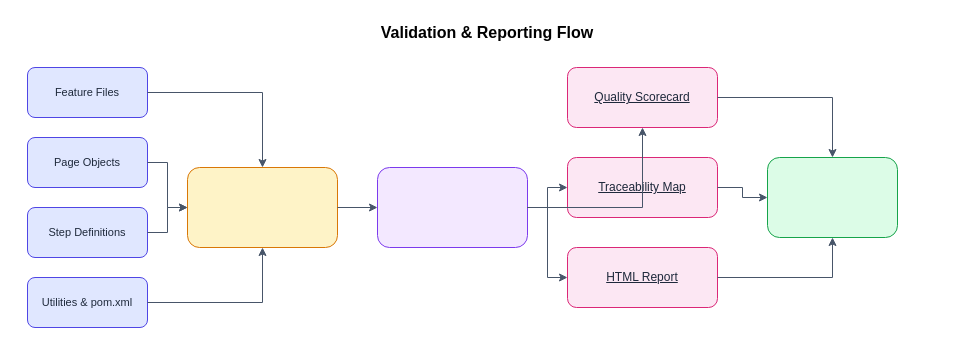
This 974x345 diagram has some shape labels left out. The box of each missing label's shape, as (x1, y1, x2, y2) in pixels:
Packaged Deliverables: (766, 156, 898, 238)
Phase 1 Static Analysis: (186, 166, 338, 248)
Phase 2 LLM Scoring: (376, 166, 528, 248)
